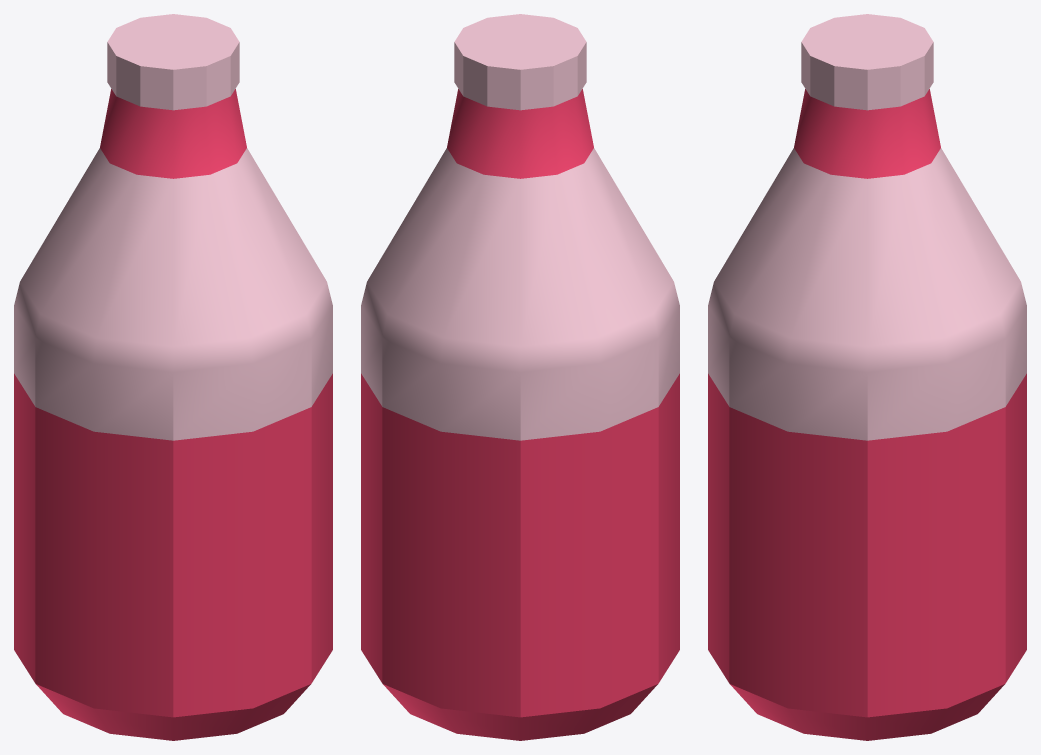
Rendered from Ürün61.fbx.
3 renders of one model, left to right at view 1: azimuth 30°, elevation 25°; view 2: azimuth 150°, elevation 25°; view 3: azimuth 270°, elevation 25°, orthographic.
Visible parts, largest first — view 1: pCylinder37; view 2: pCylinder37; view 3: pCylinder37.
Boxes of the visible parts, x1,y1,x2,y2 form: pCylinder37: [14, 14, 332, 740]; pCylinder37: [361, 14, 679, 740]; pCylinder37: [708, 14, 1026, 740].
Bounding box in the file's own units: 8.52 × 19.04 × 8.52.
